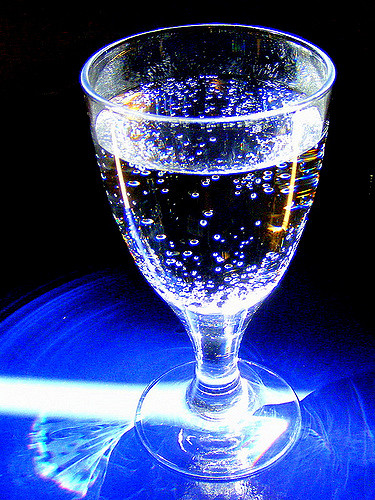glass of water: (87, 60, 329, 425)
